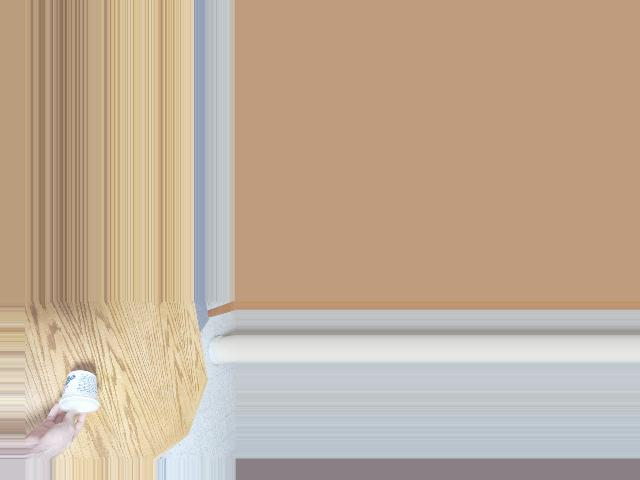cotage: (59, 374, 91, 416)
